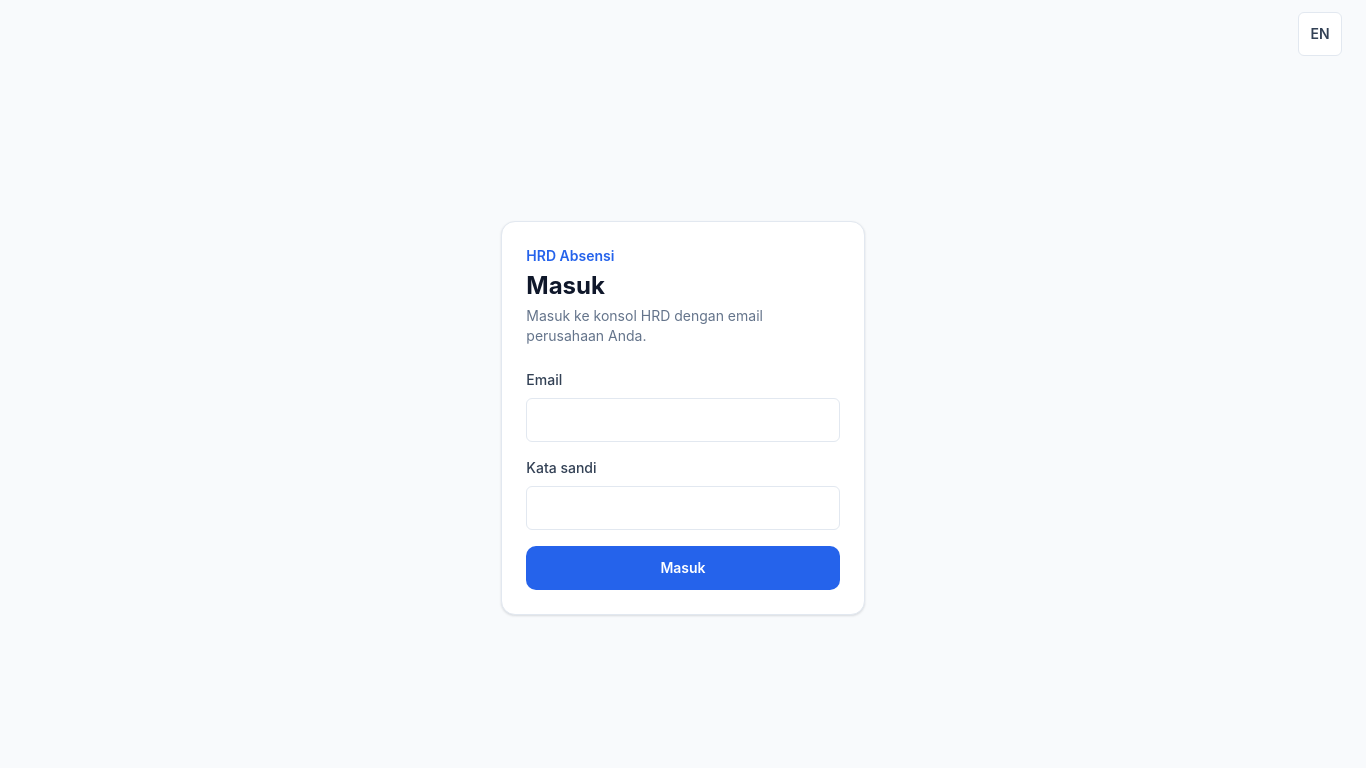
Test: language toggle on every screen › switches the sign-in screen to English without another session probe
The width and height of the screenshot is (1366, 768).
Click the button with test id "lang-toggle" at (1320, 34), box left=1298, top=12, right=1342, bottom=56
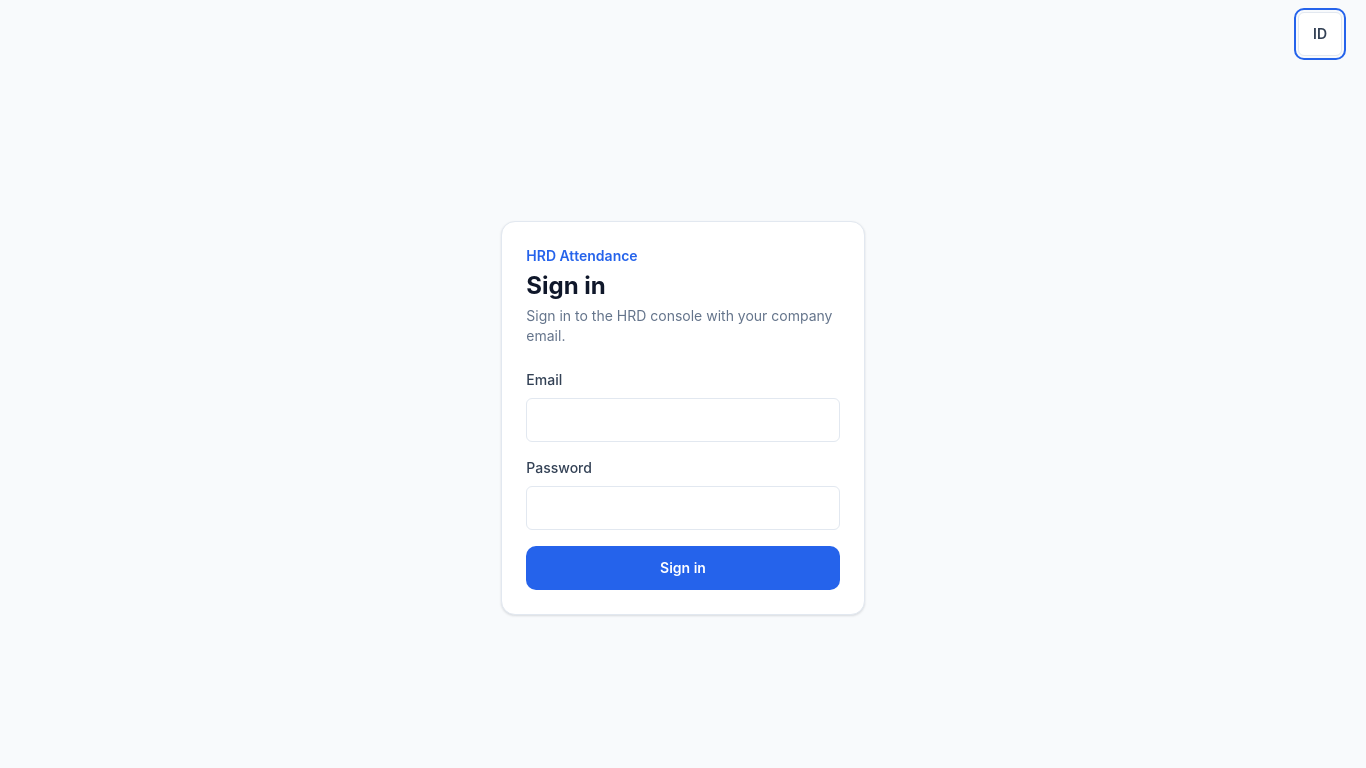
Now the button "Sign in" is shown, box left=526, top=546, right=840, bottom=590
Now the text "Sign in to the HRD console with your company email." is shown, box left=526, top=306, right=840, bottom=346
Now the text "Masuk ke konsol HRD dengan email perusahaan Anda." is gone
